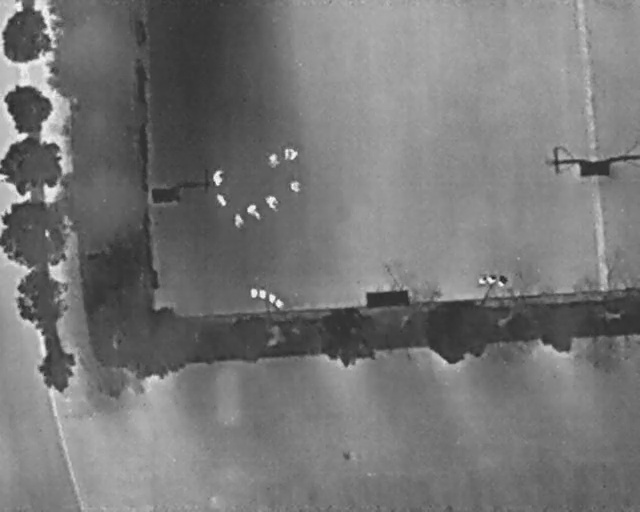Person: (266, 195, 279, 209), (213, 170, 224, 186), (217, 193, 227, 207), (234, 213, 243, 228), (270, 153, 279, 168), (289, 180, 300, 192), (246, 204, 256, 214), (290, 148, 298, 160), (283, 148, 289, 159)
